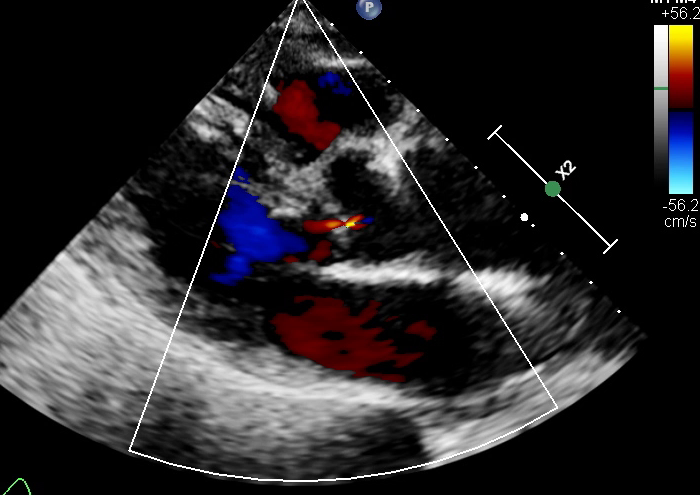TR: (236, 174, 304, 305)
